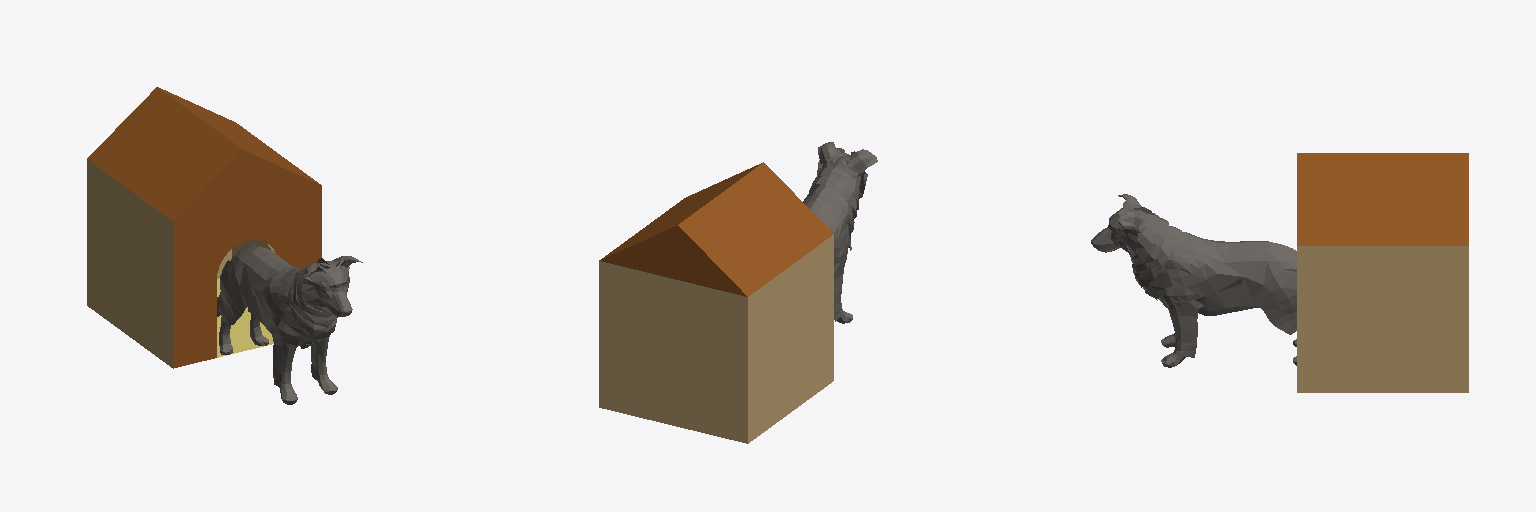
The model's file is dog.obj.
3 views of the same model, side by side, from view 1: azimuth 30°, elevation 25°; view 2: azimuth 150°, elevation 25°; view 3: azimuth 270°, elevation 25° (orthographic).
Parts seen in each view (by area): view 1: Mesh1 Group2 Group1 Component_1_1 Model, Mesh2 skp440B1 Component1 Group1 Component_1_1 Model; view 2: Mesh1 Group2 Group1 Component_1_1 Model, Mesh2 skp440B1 Component1 Group1 Component_1_1 Model; view 3: Mesh1 Group2 Group1 Component_1_1 Model, Mesh2 skp440B1 Component1 Group1 Component_1_1 Model.
Part boxes in pixels (bbox=[...]): Mesh1 Group2 Group1 Component_1_1 Model: bbox=[87, 87, 321, 368]; Mesh2 skp440B1 Component1 Group1 Component_1_1 Model: bbox=[217, 245, 362, 404]; Mesh1 Group2 Group1 Component_1_1 Model: bbox=[599, 162, 833, 443]; Mesh2 skp440B1 Component1 Group1 Component_1_1 Model: bbox=[803, 142, 877, 323]; Mesh1 Group2 Group1 Component_1_1 Model: bbox=[1297, 153, 1468, 392]; Mesh2 skp440B1 Component1 Group1 Component_1_1 Model: bbox=[1091, 194, 1296, 367].
Bounding box in the file's own units: 0.85 × 1.1 × 1.87.